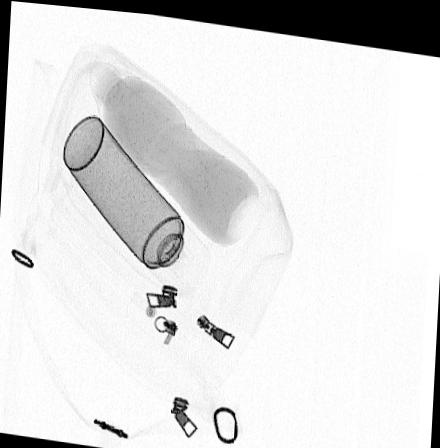Sprayer: (63, 113, 211, 297)
